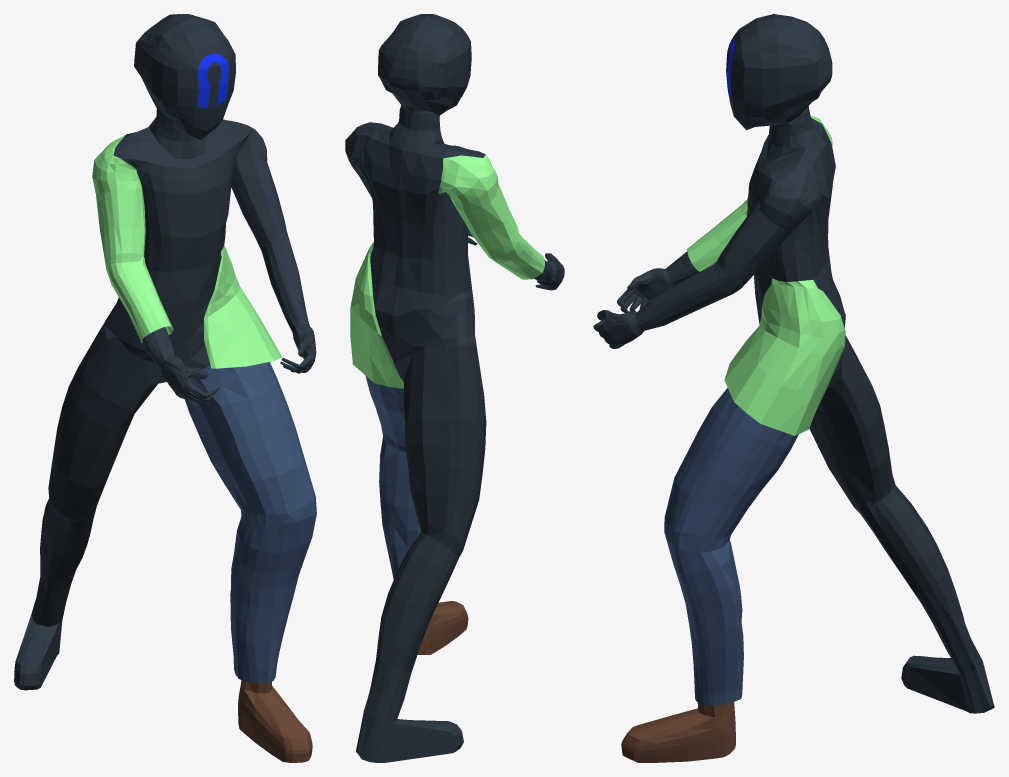
The model's file is Mar_Recover_000031.obj.
3 views of the same model, side by side, from view 1: azimuth 30°, elevation 25°; view 2: azimuth 150°, elevation 25°; view 3: azimuth 270°, elevation 25° (orthographic). The views are drawn at different scales.
Parts seen in each view (by area): view 1: Cube.000_Cube.001; view 2: Cube.000_Cube.001; view 3: Cube.000_Cube.001.
Part boxes in pixels (bbox=[...]): Cube.000_Cube.001: bbox=[14, 14, 316, 762]; Cube.000_Cube.001: bbox=[345, 14, 564, 762]; Cube.000_Cube.001: bbox=[593, 14, 994, 762].
Size of the model in its own units: 1.07 by 3.78 by 1.91.
